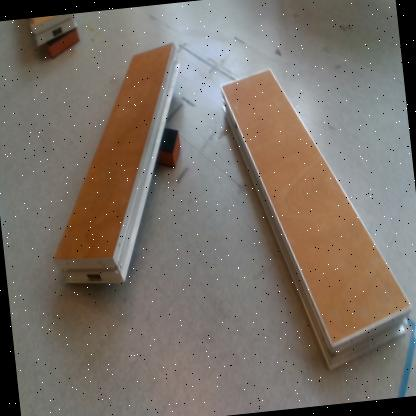Stairs: (221, 67, 414, 373), (54, 42, 180, 286), (28, 14, 79, 48)
